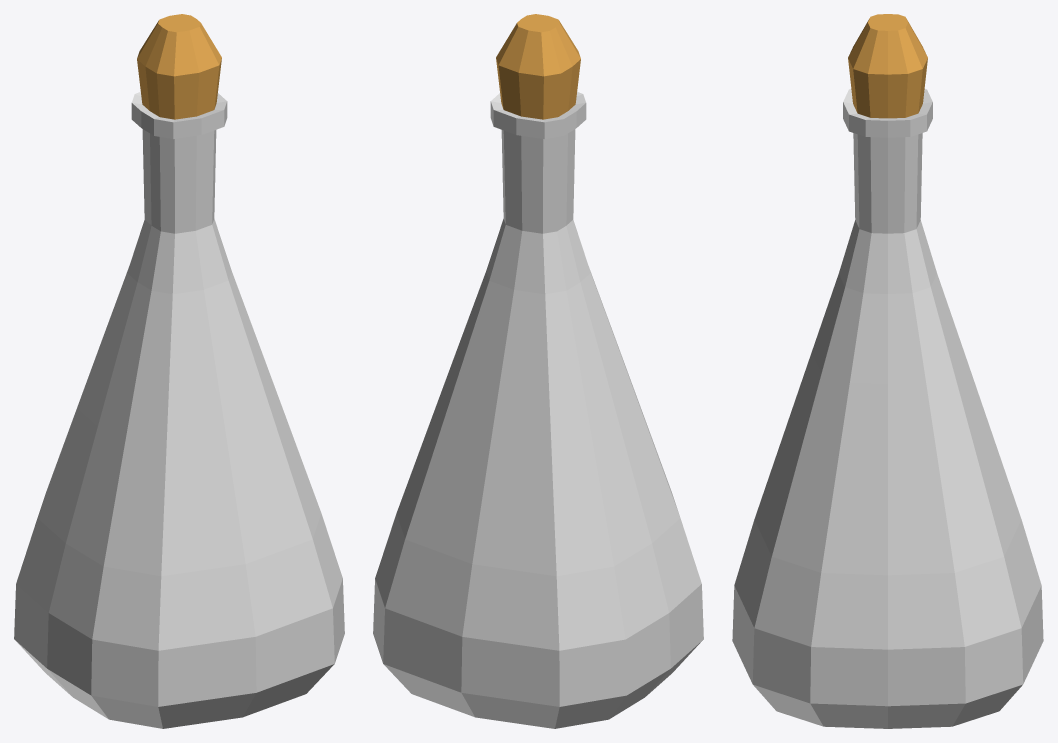
The model's file is 005_Mana_Potion 1.fbx.
The picture shows the model from 3 angles, left to right: view 1: azimuth 30°, elevation 25°; view 2: azimuth 150°, elevation 25°; view 3: azimuth 270°, elevation 25°; orthographic projection.
Visible parts, largest first — view 1: Mana Potion; view 2: Mana Potion; view 3: Mana Potion.
Part boxes in pixels (bbox=[...]): Mana Potion: bbox=[14, 14, 344, 728]; Mana Potion: bbox=[373, 14, 703, 728]; Mana Potion: bbox=[732, 14, 1043, 728].
Size of the model in its own units: 19.19 by 46.52 by 19.36.
